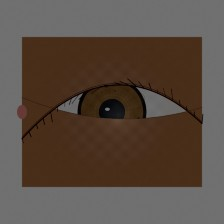pinguecula_lesion: (34, 103, 79, 139)
